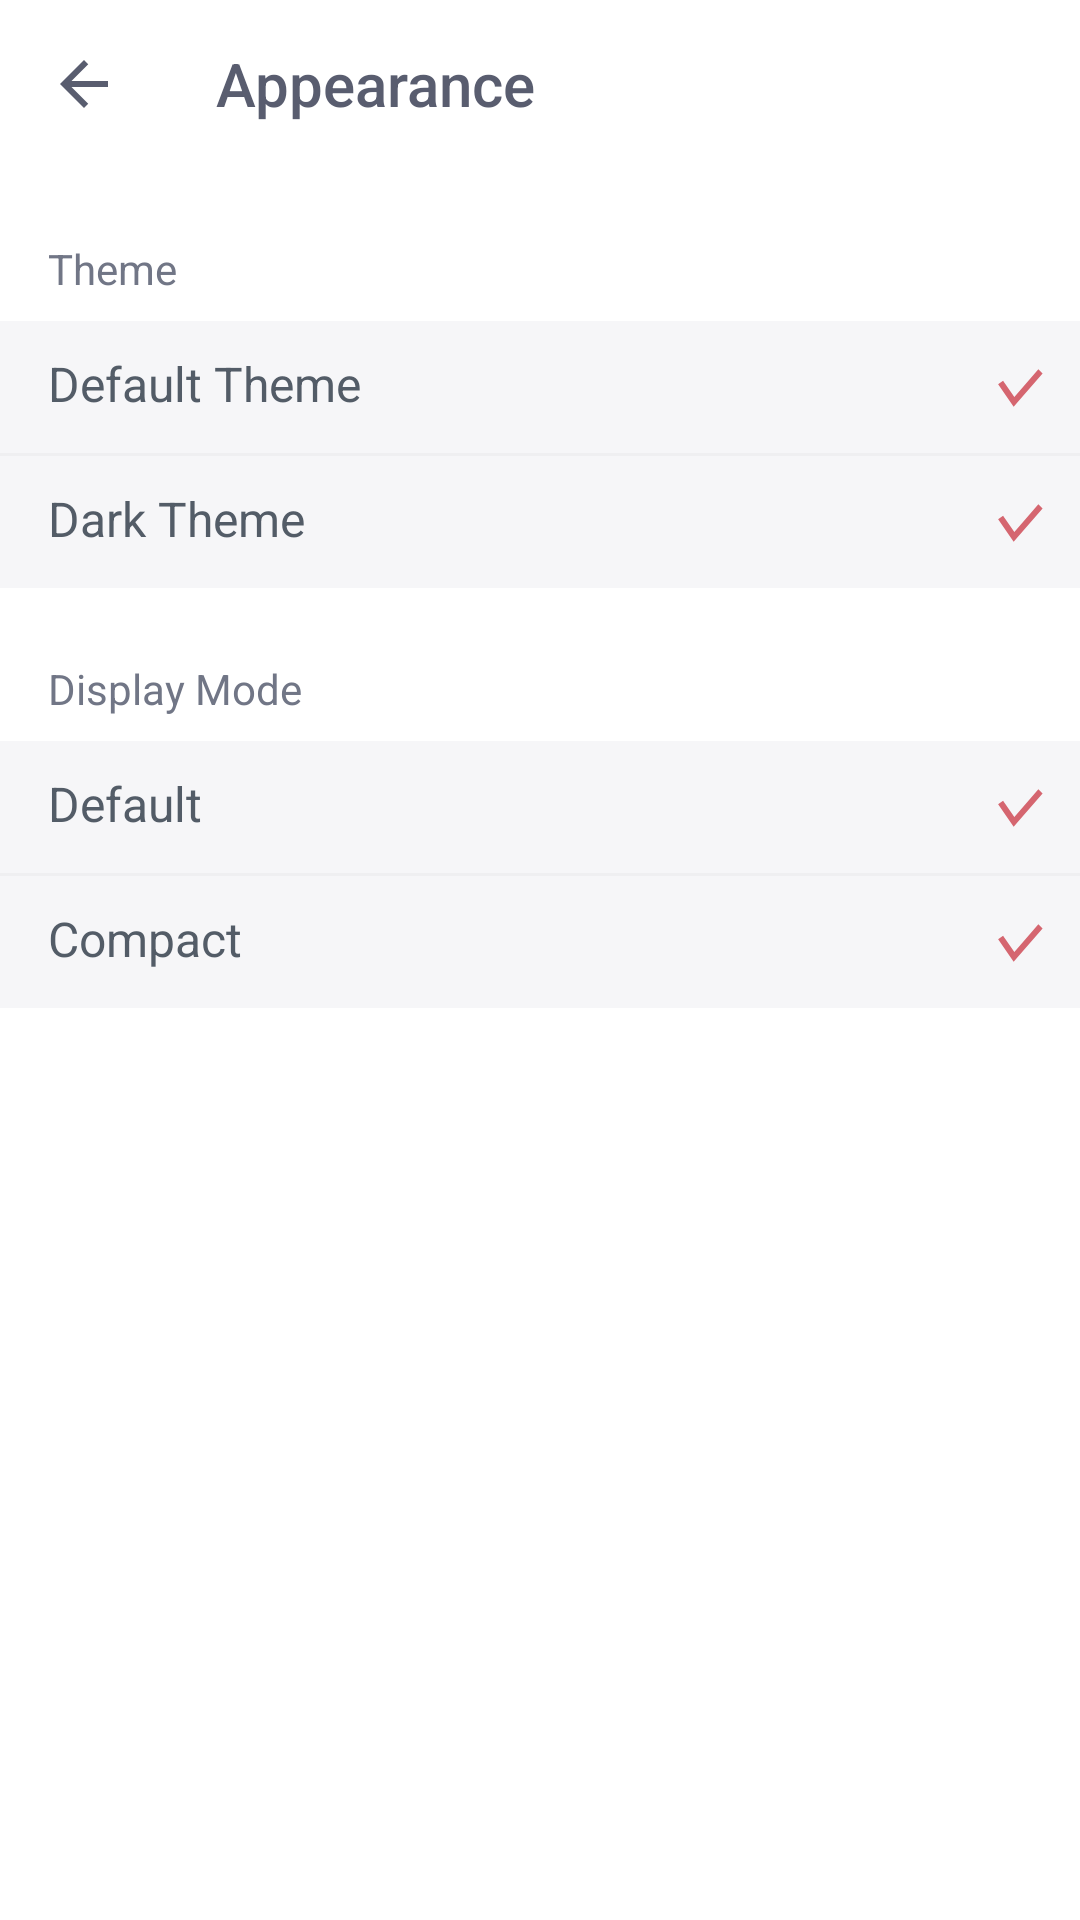

Point at icon controls on the screen. Image size 1080 × 1920, points as (x,y).
arrow back: (84,84)
tick: (1020,388), (1020,523), (1020,808), (1020,943)
